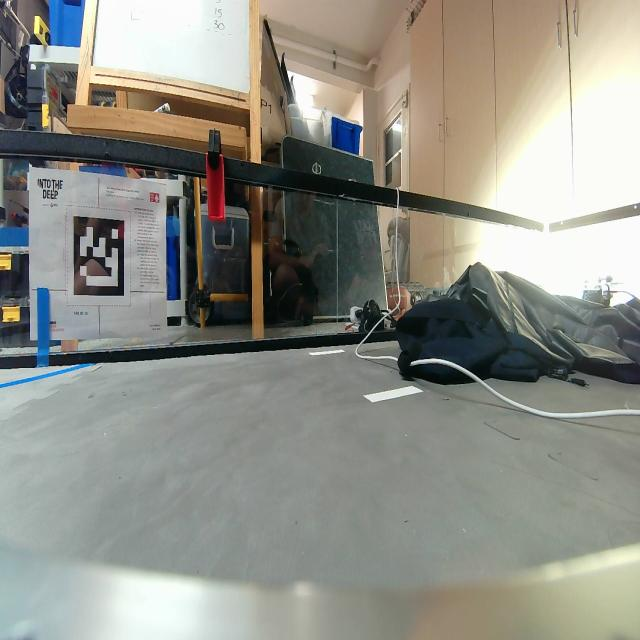specimen_block_red: (206, 149, 228, 226)
